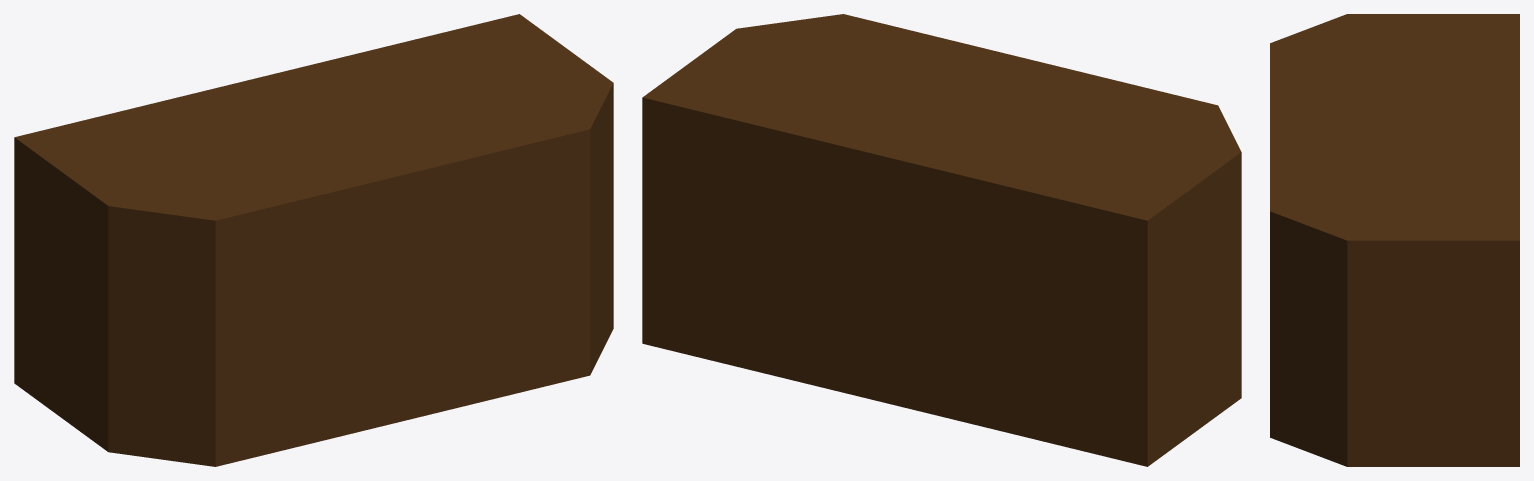
File: Cage_C.fbx
3 views of the same model, side by side, from view 1: azimuth 30°, elevation 25°; view 2: azimuth 150°, elevation 25°; view 3: azimuth 270°, elevation 25° (orthographic). The views are drawn at different scales.
Visible parts, largest first — view 1: Cube.c; view 2: Cube.c; view 3: Cube.c.
Part boxes in pixels (x1,y1,x2,y2): Cube.c: (14,14,613,466); Cube.c: (642,14,1241,466); Cube.c: (1270,14,1519,466).
Size of the model in its own units: 4094 by 1907 by 1907.
